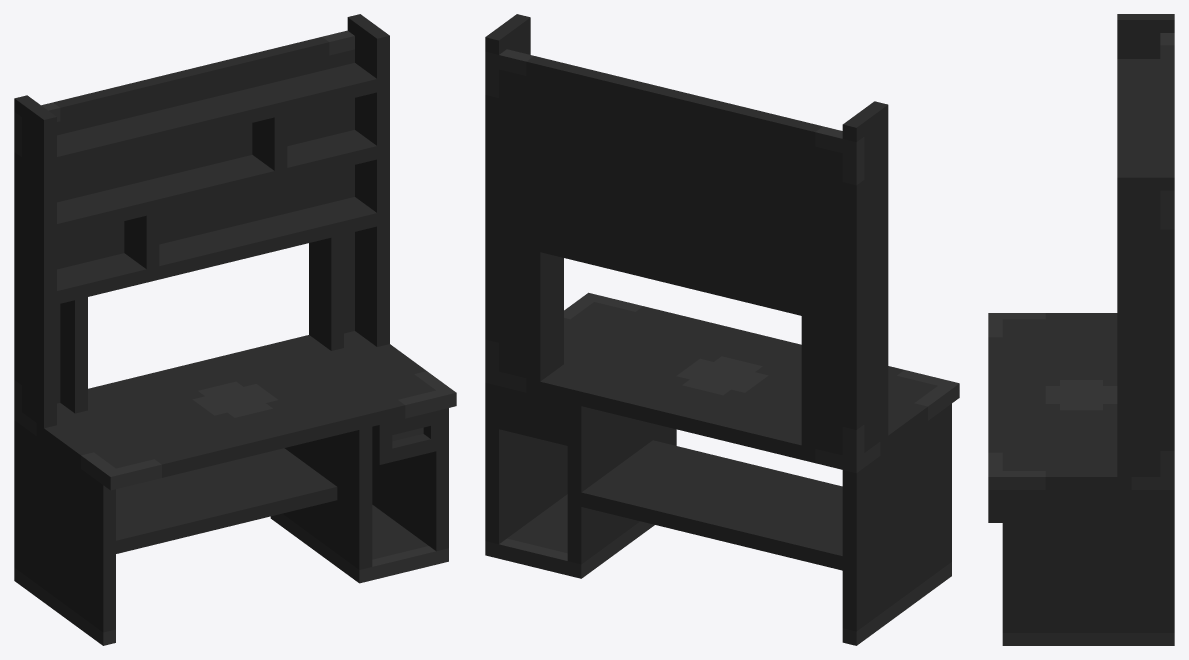
The model's file is Decor-46.obj.
3 views of the same model, side by side, from view 1: azimuth 30°, elevation 25°; view 2: azimuth 150°, elevation 25°; view 3: azimuth 270°, elevation 25° (orthographic). The views are drawn at different scales.
Bounding box in the file's own units: 2.7 × 3.6 × 1.3.
1 material, 1 textured.
